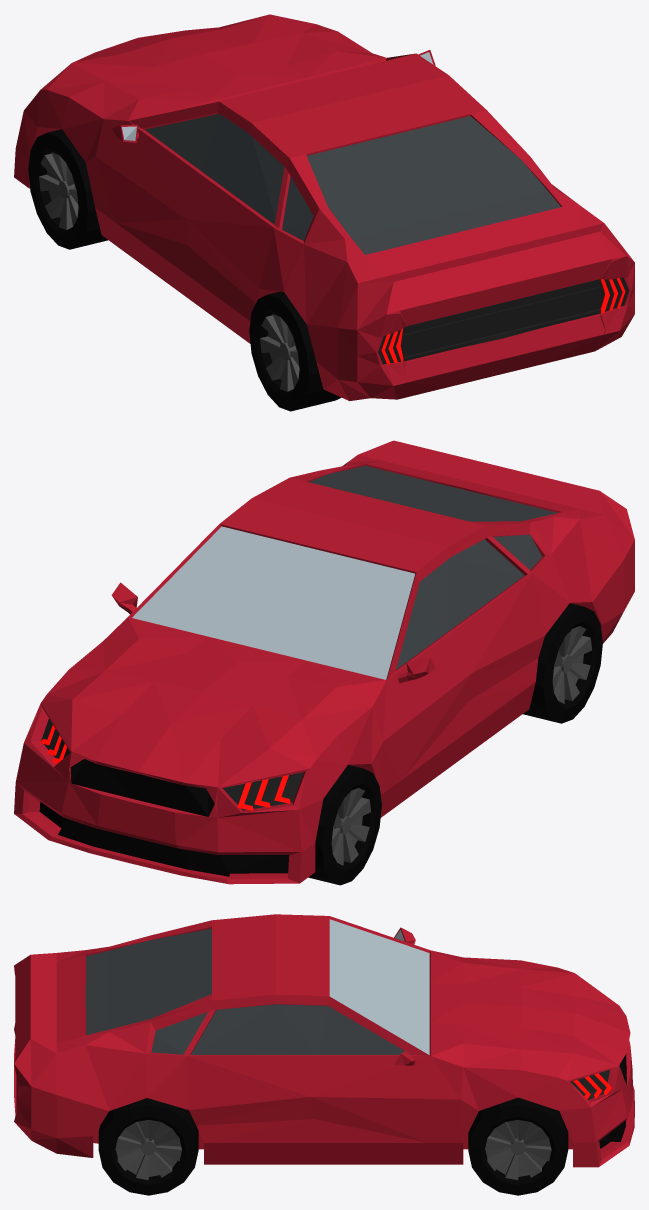
File: mustangLastt.fbx
3 views of the same model, one above another, from view 1: azimuth 30°, elevation 25°; view 2: azimuth 150°, elevation 25°; view 3: azimuth 270°, elevation 25° (orthographic). The views are drawn at different scales.
Visible parts, largest first — view 1: Cube, BL, FL; view 2: Cube, BL, FL; view 3: Cube, BR, FR.
Boxes of the visible parts, <box> form: Cube: <box>14,14,634,401</box>; BL: <box>249,291,341,411</box>; FL: <box>28,129,107,249</box>; Cube: <box>14,440,634,884</box>; BL: <box>523,603,602,723</box>; FL: <box>308,765,381,885</box>; Cube: <box>14,914,634,1167</box>; BR: <box>98,1098,198,1195</box>; FR: <box>468,1097,568,1195</box>.
Bounding box in the file's own units: 215 × 142 × 441.
